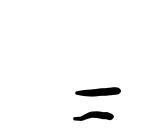eqv: (74, 87, 121, 121)
